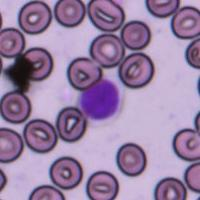L: (76, 75, 124, 126)
